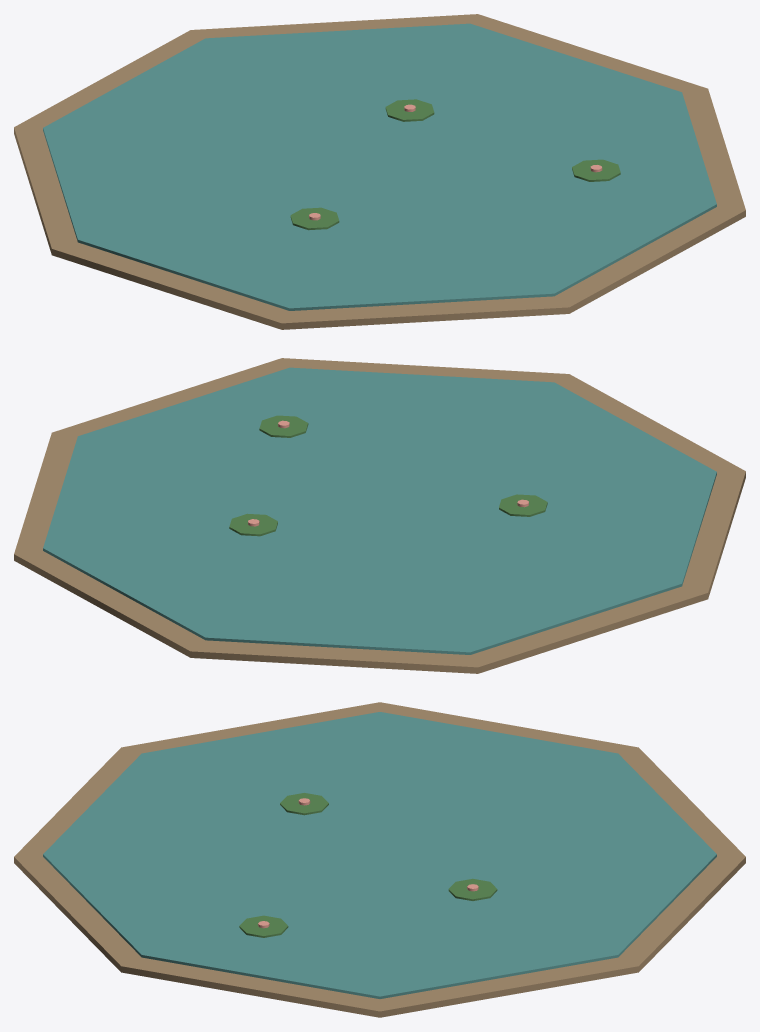
The model's file is pond.glb.
The picture shows the model from 3 angles, top to bottom: view 1: azimuth 30°, elevation 25°; view 2: azimuth 150°, elevation 25°; view 3: azimuth 270°, elevation 25°; orthographic projection. The views are drawn at different scales.
Visible parts, largest first — view 1: _MeshInstance3D_369, _MeshInstance3D_368, _MeshInstance3D_373, _MeshInstance3D_371, _MeshInstance3D_375; view 2: _MeshInstance3D_369, _MeshInstance3D_368, _MeshInstance3D_373, _MeshInstance3D_375, _MeshInstance3D_371; view 3: _MeshInstance3D_369, _MeshInstance3D_368, _MeshInstance3D_371, _MeshInstance3D_375, _MeshInstance3D_373.
Boxes of the visible parts, x1,y1,x2,y2 form: _MeshInstance3D_369: (43, 23, 716, 310); _MeshInstance3D_368: (14, 14, 745, 329); _MeshInstance3D_373: (385, 99, 434, 121); _MeshInstance3D_371: (290, 207, 339, 230); _MeshInstance3D_375: (572, 159, 620, 181); _MeshInstance3D_369: (43, 367, 716, 654); _MeshInstance3D_368: (14, 358, 745, 673); _MeshInstance3D_373: (229, 513, 277, 536); _MeshInstance3D_375: (259, 415, 308, 437); _MeshInstance3D_371: (499, 494, 547, 516); _MeshInstance3D_369: (43, 712, 716, 998); _MeshInstance3D_368: (14, 702, 745, 1017); _MeshInstance3D_371: (280, 793, 328, 815); _MeshInstance3D_375: (239, 915, 288, 937); _MeshInstance3D_373: (448, 878, 497, 900).
Size of the model in its own units: 12.6 by 0.255 by 12.6.
